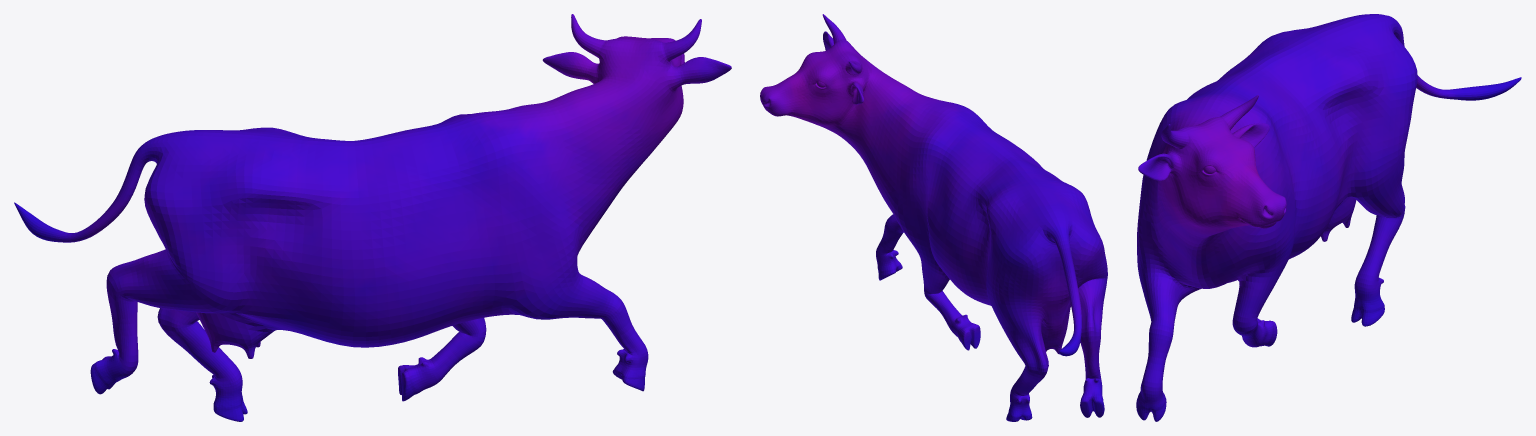
Rendered from pred.glb.
3 views of the same model, side by side, from view 1: azimuth 30°, elevation 25°; view 2: azimuth 150°, elevation 25°; view 3: azimuth 270°, elevation 25° (orthographic). The views are drawn at different scales.
Size of the model in its own units: 0.5731 by 0.3928 by 0.374.
